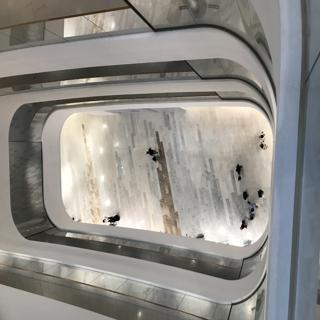person: (141, 141, 165, 175), (230, 159, 247, 187), (235, 207, 249, 241), (255, 188, 268, 212), (258, 126, 268, 154)
